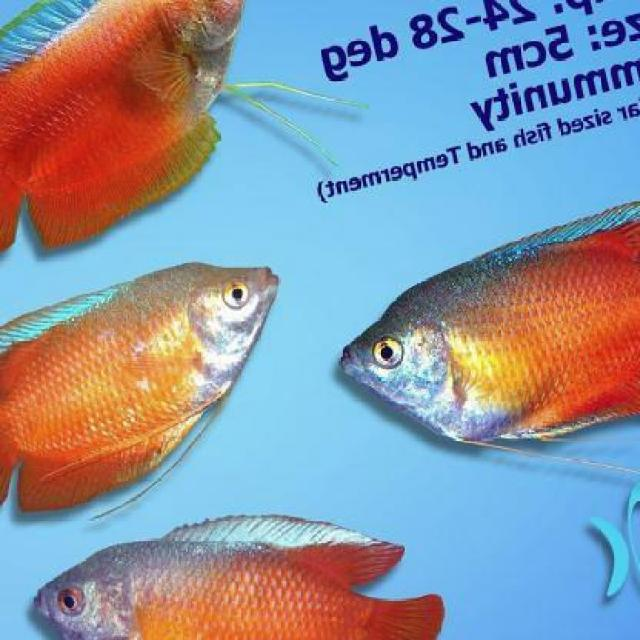Gourami: (338, 194, 638, 454), (2, 259, 282, 523)
